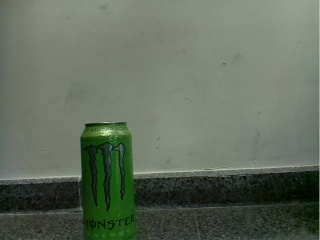botella plastico: (80, 121, 135, 240)
